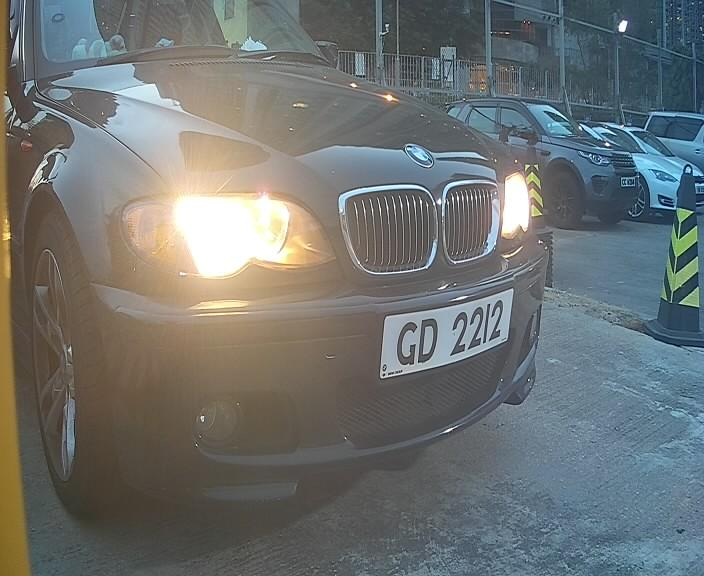License Plate: (365, 286, 510, 384)
